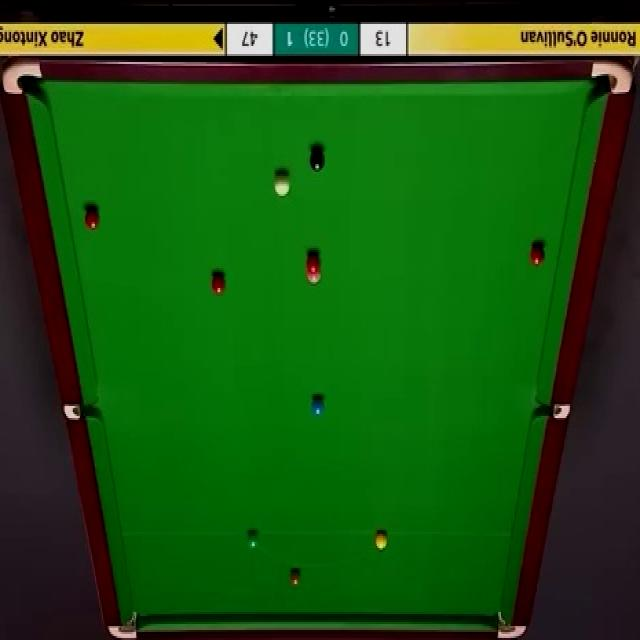black-ball: (308, 148, 327, 174)
blue-ball: (313, 395, 324, 415)
brown-ball: (288, 567, 304, 587)
green-ball: (247, 530, 260, 551)
pink-ball: (309, 264, 322, 284)
red-ball: (85, 205, 101, 232), (530, 242, 547, 264), (212, 273, 226, 295), (307, 248, 320, 270)
white-ball: (274, 172, 290, 198)
yellow-ball: (375, 530, 389, 551)
